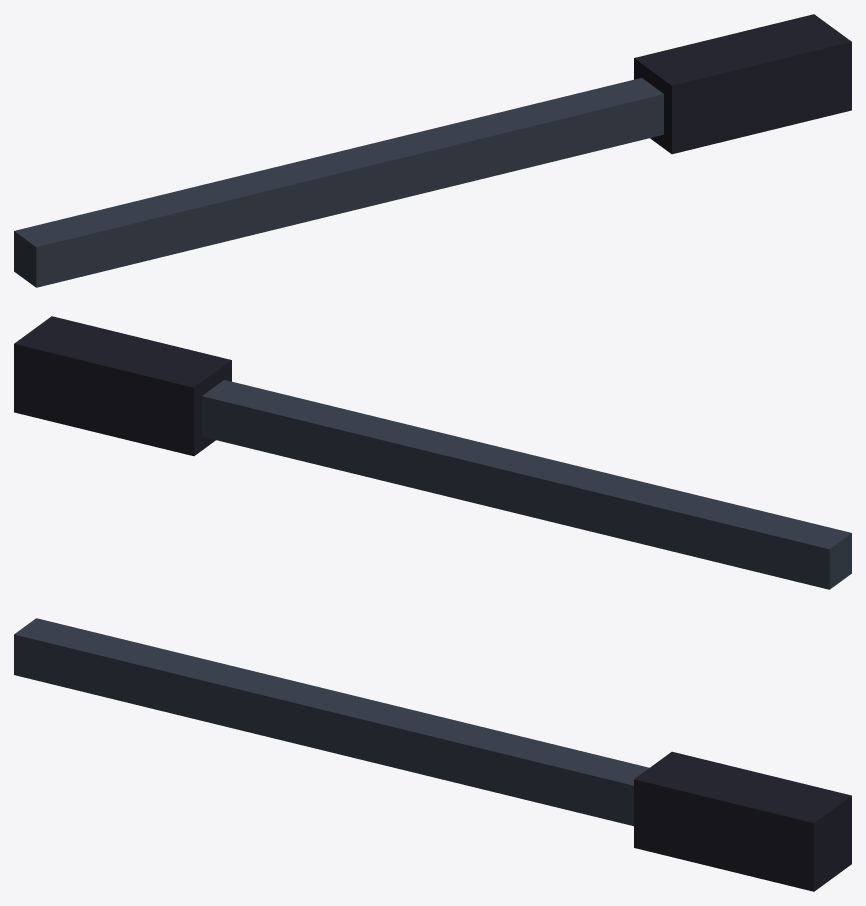
The model's file is Cable_C_1_1.glb.
The picture shows the model from 3 angles, top to bottom: view 1: azimuth 30°, elevation 25°; view 2: azimuth 150°, elevation 25°; view 3: azimuth 330°, elevation 25°; orthographic projection.
Visible parts, largest first — view 1: Cable_C_1_1; view 2: Cable_C_1_1; view 3: Cable_C_1_1.
Boxes of the visible parts, x1,y1,x2,y2 form: Cable_C_1_1: (14,14,851,287); Cable_C_1_1: (14,316,851,589); Cable_C_1_1: (14,618,851,891).
Bounding box in the file's own units: 1.21 × 0.0983 × 0.0983.
Materials: 1 (1 with a texture image).
